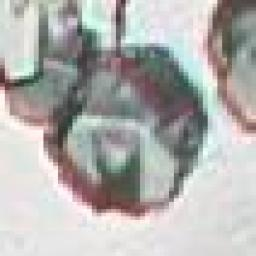crystals: (43, 38, 213, 223)
